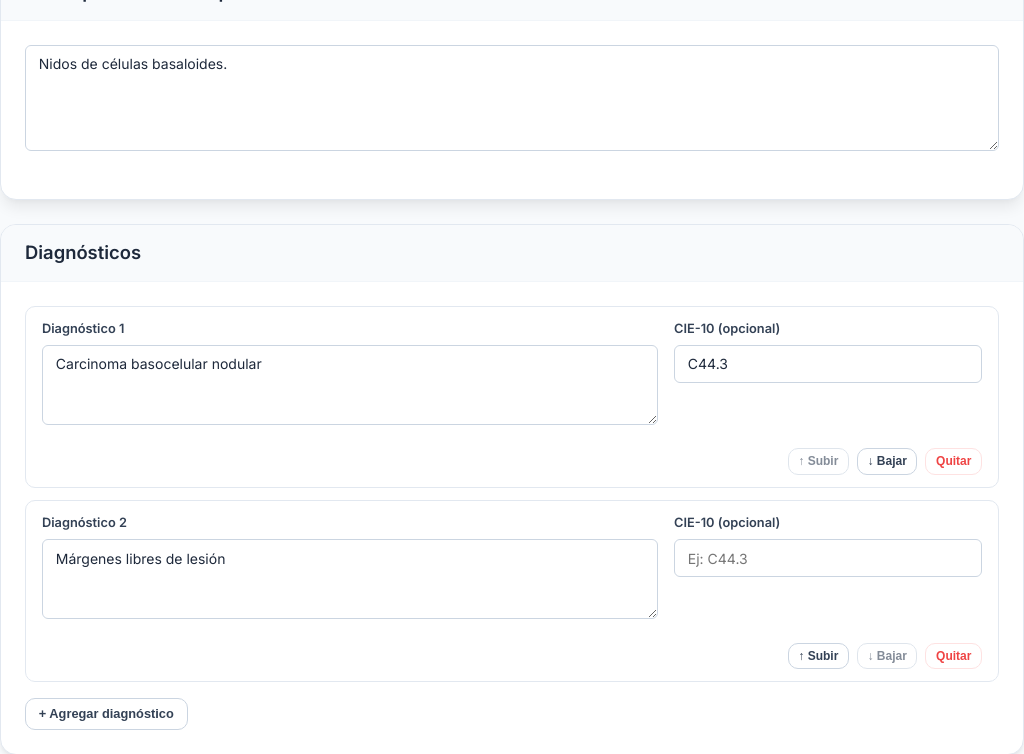
Scenario: InformePage: no perder lo escrito (D-13) › no autoguarda si el formulario no pasa la validación
(page scrolled)
Clear the text box labelled "Diagnóstico 1" at (350, 385), box [42,345,658,425]
Wait 6000 ms
(page scrolled)
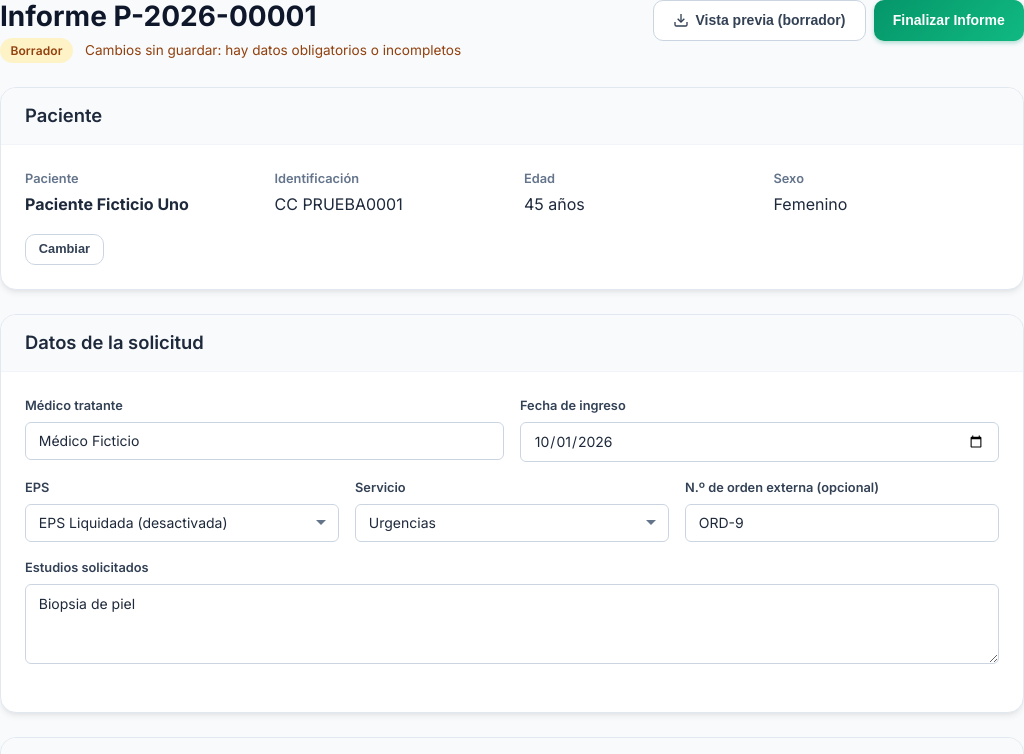
Result: the text "Cambios sin guardar: hay datos obligatorios o incompletos" is shown at [85,42,461,58]
